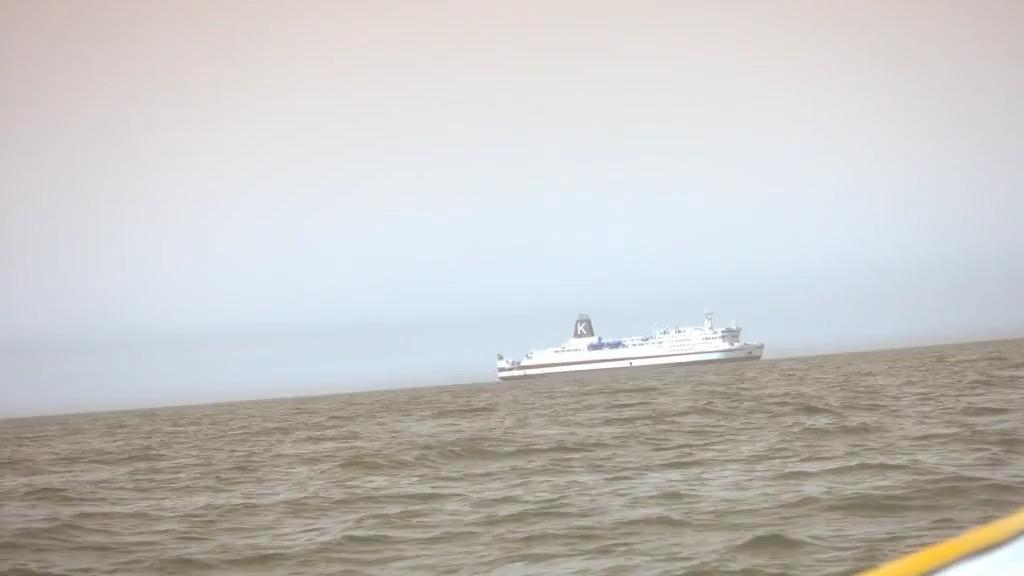PassengerShip: (493, 310, 771, 380)
